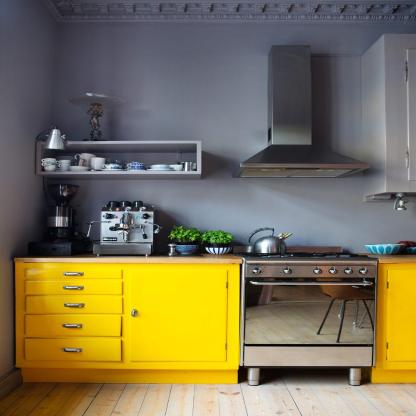other: (20, 257, 237, 383), (376, 262, 411, 372)
